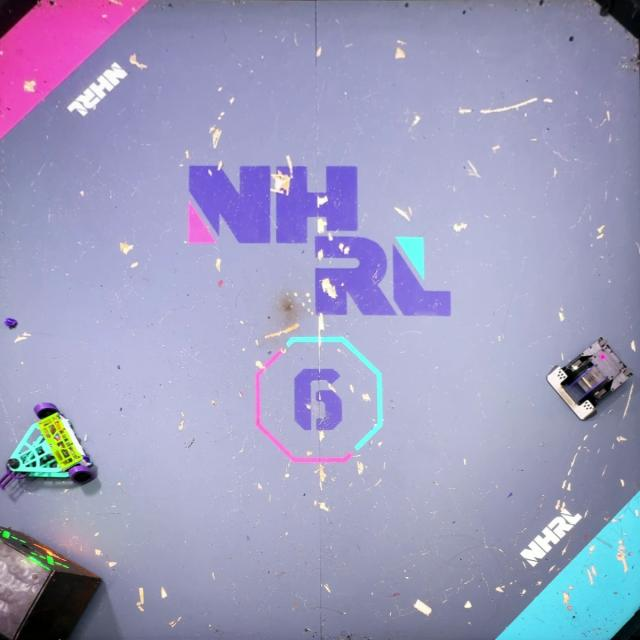housebot: (0, 525, 105, 640)
robot: (0, 399, 96, 492), (544, 333, 634, 422)
